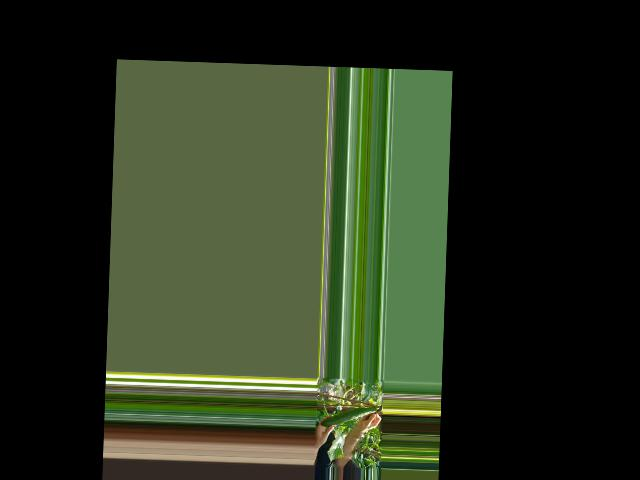cucumber: (320, 405, 376, 428)
